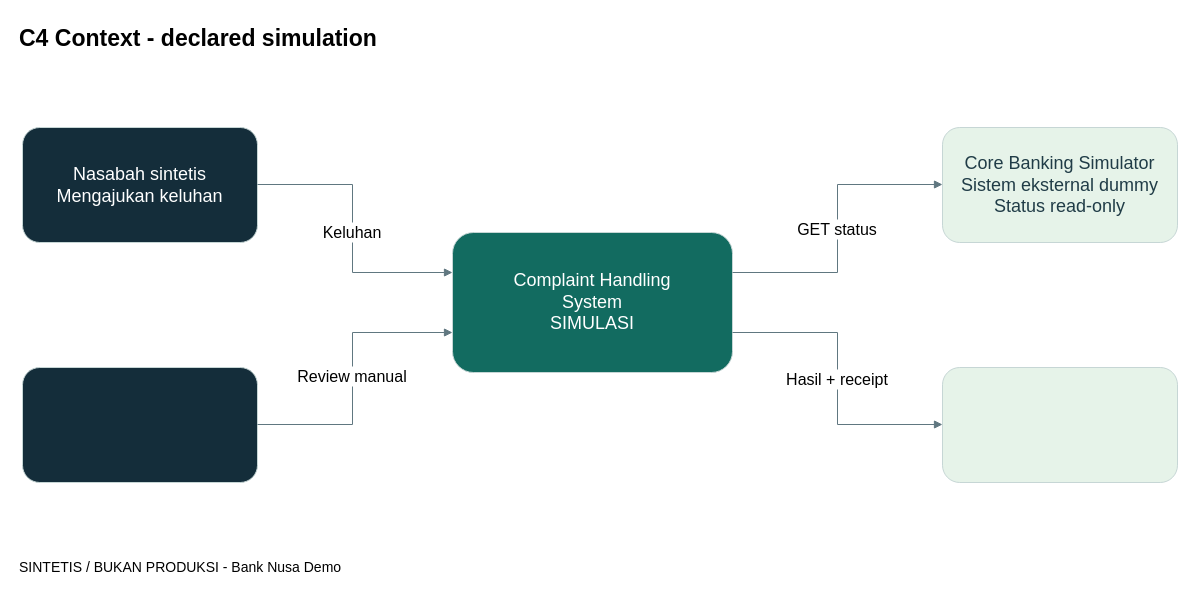
Some shapes in this 1195 by 599 pixel diagram are drawn without their labels. The centre of each missing label's shape, as x and y in pixels:
"CS / Ops / Supervisor Menangani dan mereview" goes at (x=140, y=424).
"Notification Stub Sistem eksternal dummy Receipt berhasil/gagal" goes at (x=1060, y=424).
